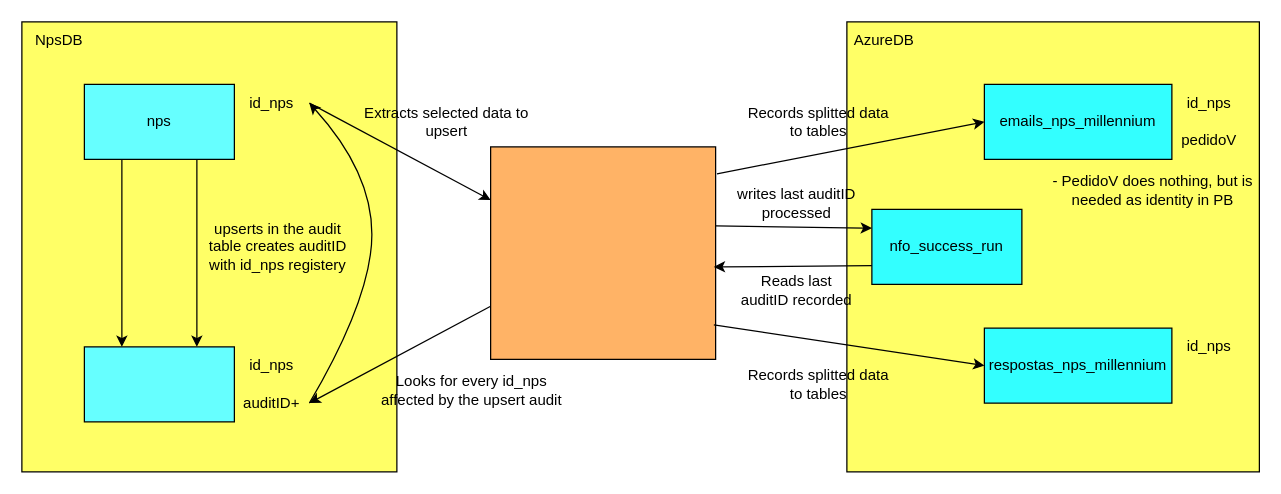
This 1281x494 diagram has some shape labels left out. The shapes that lost their labels are listed below. From the top down, each one's centre as x and y in pixels, then its label:
point 602,252: Datapipeline_nps_EMAILNPS
point 158,384: audit_table
